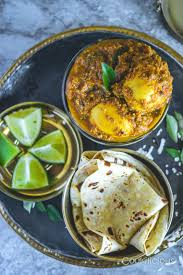curry: (68, 35, 170, 145)
egg: (91, 99, 142, 142), (119, 68, 170, 111)
roti: (75, 155, 166, 256)
